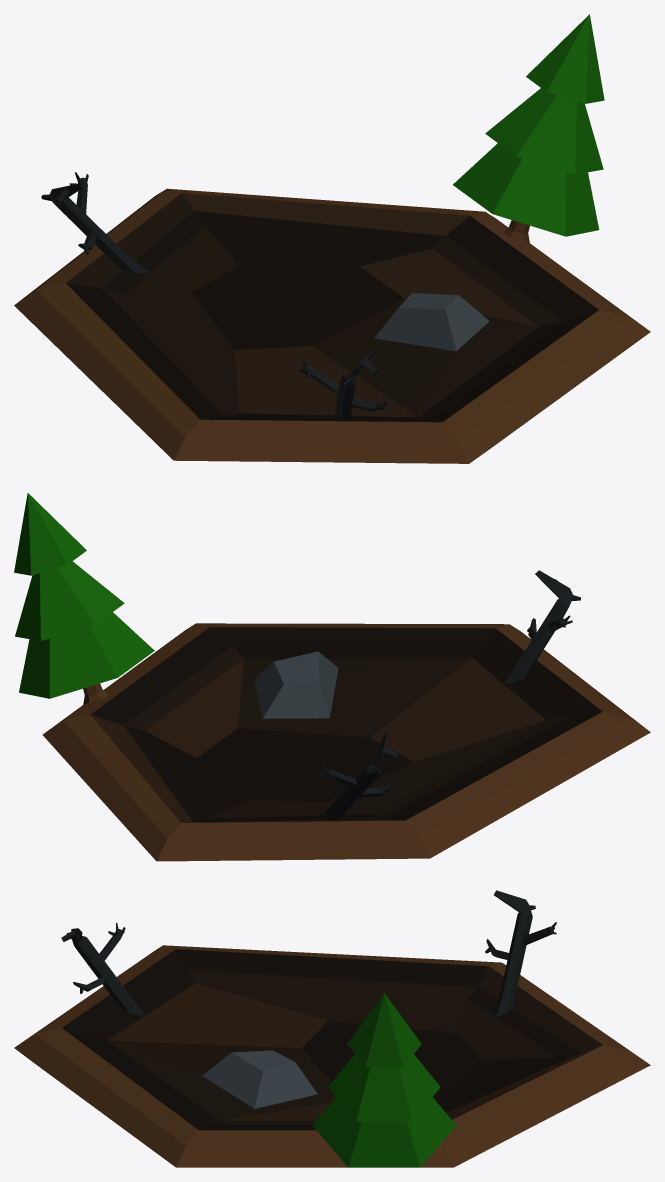
The model's file is CraterA.fbx.
The picture shows the model from 3 angles, top to bottom: view 1: azimuth 30°, elevation 25°; view 2: azimuth 150°, elevation 25°; view 3: azimuth 270°, elevation 25°; orthographic projection. The views are drawn at different scales.
Parts seen in each view (by area): view 1: Cylinder.004, Cylinder.003; view 2: Cylinder.004, Cylinder.003; view 3: Cylinder.004, Cylinder.003.
Part boxes in pixels (left/top/right/bottom): Cylinder.004: left=14, top=172, right=650, bottom=463; Cylinder.003: left=453, top=14, right=604, bottom=243; Cylinder.004: left=42, top=570, right=650, bottom=861; Cylinder.003: left=14, top=493, right=154, bottom=704; Cylinder.004: left=14, top=890, right=650, bottom=1167; Cylinder.003: left=312, top=993, right=456, bottom=1167.
Bounding box in the file's own units: 7320 × 3145 × 8159.
Materials: 1 (1 with a texture image).
